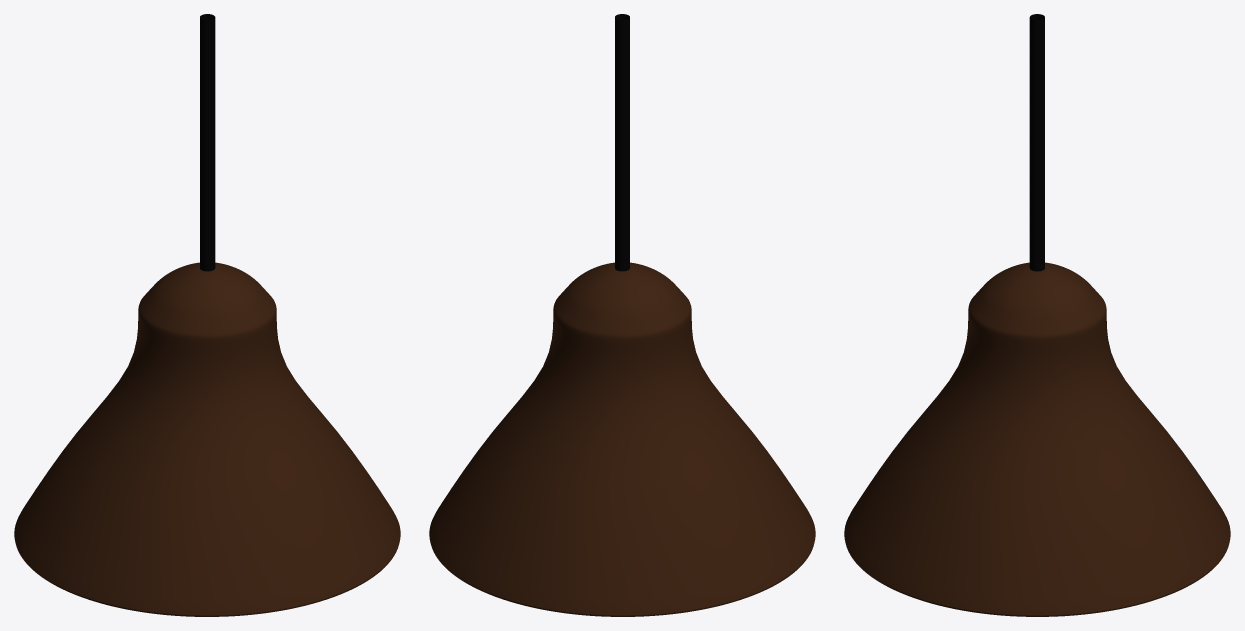
Rendered from room_lamp.fbx.
The picture shows the model from 3 angles, left to right: view 1: azimuth 30°, elevation 25°; view 2: azimuth 150°, elevation 25°; view 3: azimuth 270°, elevation 25°; orthographic projection.
Parts seen in each view (by area): view 1: Cylinder, NurbsPath; view 2: Cylinder, NurbsPath; view 3: Cylinder, NurbsPath.
Part boxes in pixels (x1,y1,x2,y2): Cylinder: (14, 262, 400, 616); NurbsPath: (200, 14, 215, 271); Cylinder: (429, 262, 815, 616); NurbsPath: (615, 14, 629, 271); Cylinder: (844, 262, 1230, 616); NurbsPath: (1029, 14, 1044, 271).
Bounding box in the file's own units: 554 × 820 × 554.
